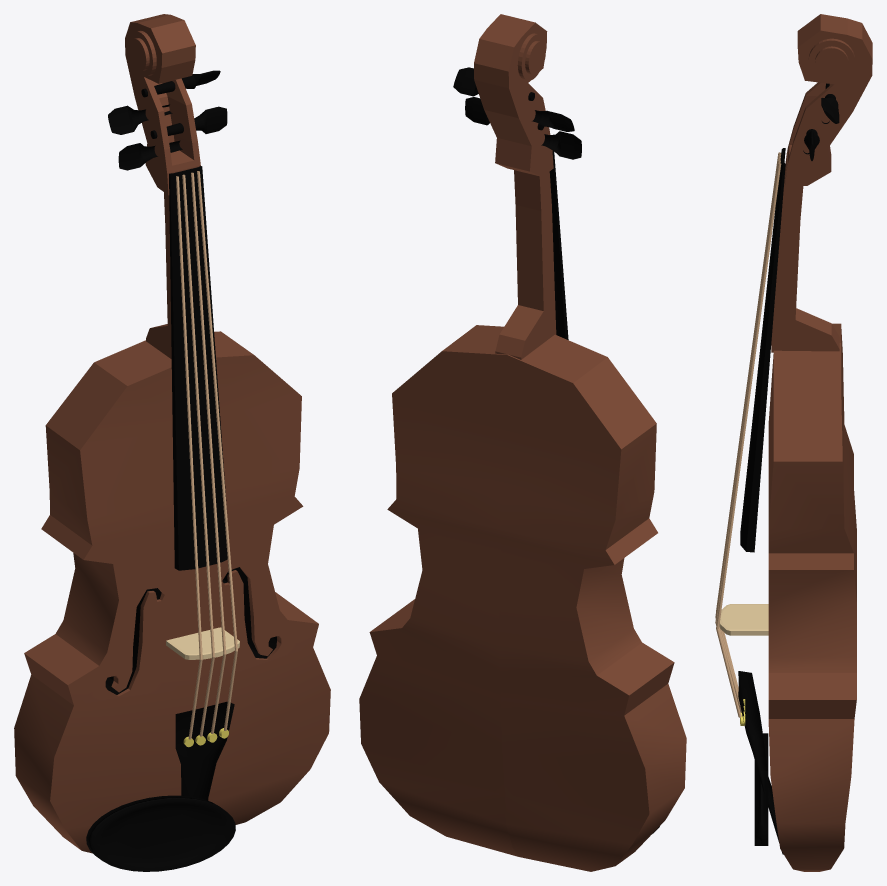
File: violin-BXOxEY2Z.glb
3 views of the same model, side by side, from view 1: azimuth 30°, elevation 25°; view 2: azimuth 150°, elevation 25°; view 3: azimuth 270°, elevation 25° (orthographic). The views are drawn at different scales.
Parts seen in each view (by area): view 1: Cube.001_2; view 2: Cube.001_2; view 3: Cube.001_2.
Boxes of the visible parts, x1,y1,x2,y2 form: Cube.001_2: (14, 14, 330, 871); Cube.001_2: (359, 14, 686, 871); Cube.001_2: (715, 14, 872, 871).
Size of the model in its own units: 8.46 by 23.73 by 4.1.
